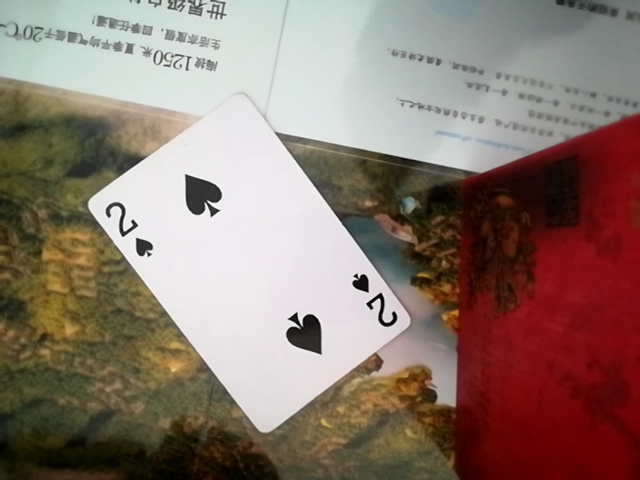ht 2: (85, 107, 432, 439)
